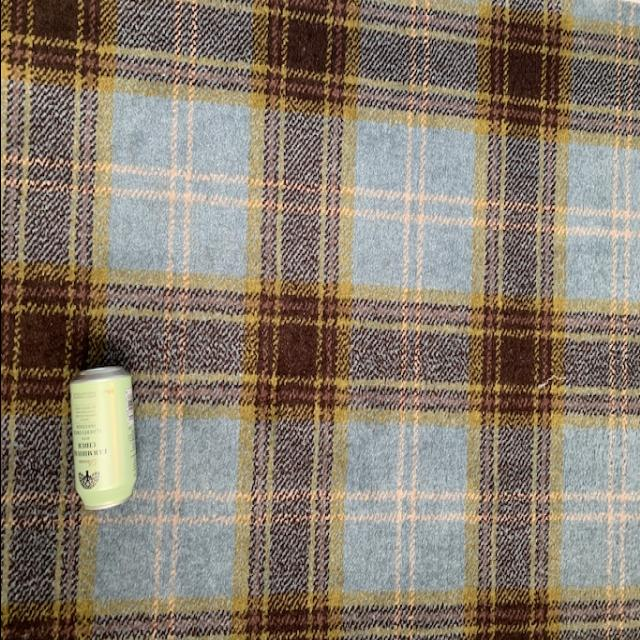Aluminum Can: (70, 355, 140, 519)
